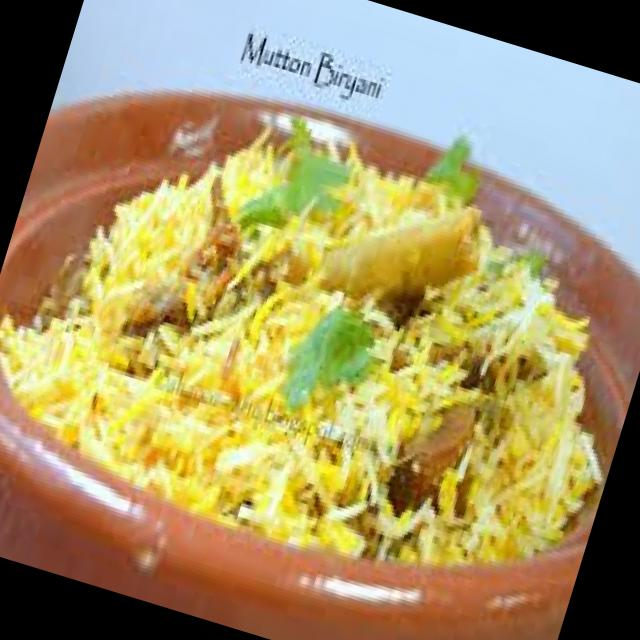Biryani: (0, 49, 640, 629)
